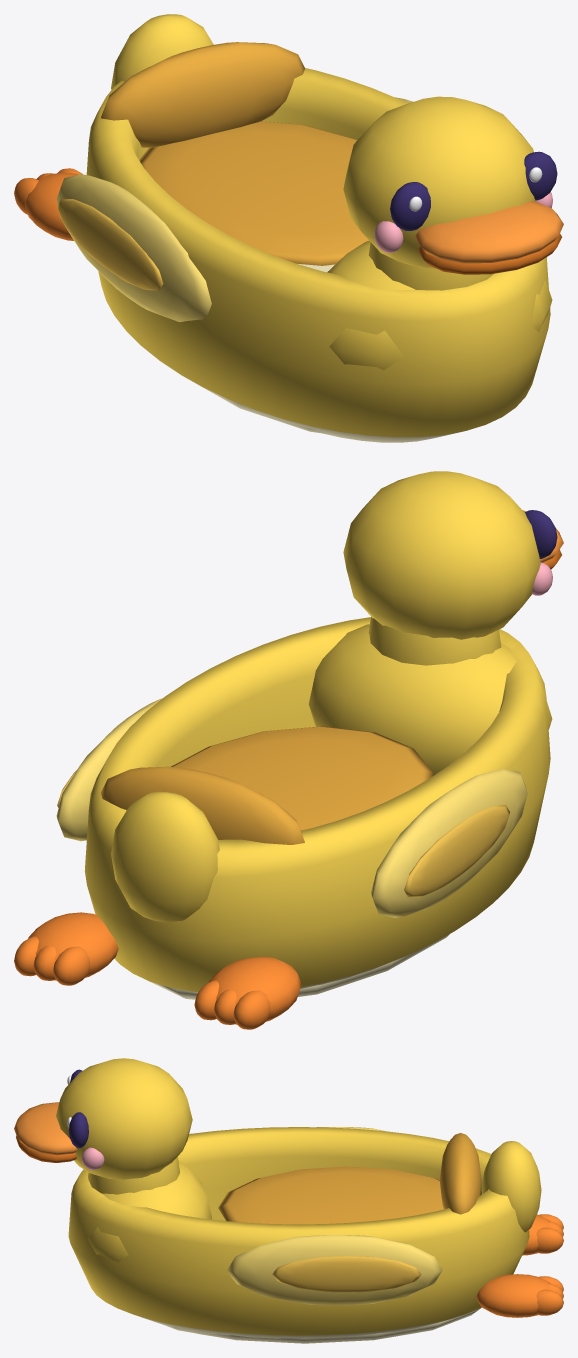
The model's file is duck_boat.glb.
The picture shows the model from 3 angles, top to bottom: view 1: azimuth 30°, elevation 25°; view 2: azimuth 150°, elevation 25°; view 3: azimuth 270°, elevation 25°; orthographic projection. The views are drawn at different scales.
Parts seen in each view (by area): view 1: OpenHull, SeatFloor, Tail, FlankWing, OrangeBill, WingPatch, Eye, WebFoot, BillLowerEdge, PinkCheek, CreamKeel; view 2: OpenHull, Tail, SeatFloor, FlankWing, WebFoot, WingPatch, CreamKeel, Eye; view 3: OpenHull, Tail, SeatFloor, FlankWing, WebFoot, WingPatch, OrangeBill, CreamKeel, Eye, BillLowerEdge, PinkCheek.
Boxes of the visible parts, bbox=[...] form: OpenHull: bbox=[86, 68, 550, 442]; SeatFloor: bbox=[101, 42, 368, 265]; Tail: bbox=[111, 14, 552, 370]; FlankWing: bbox=[56, 97, 413, 322]; OrangeBill: bbox=[414, 201, 563, 263]; WingPatch: bbox=[57, 199, 163, 290]; Eye: bbox=[390, 151, 557, 230]; WebFoot: bbox=[14, 168, 82, 240]; BillLowerEdge: bbox=[418, 234, 561, 274]; PinkCheek: bbox=[374, 192, 552, 252]; CreamKeel: bbox=[181, 263, 383, 441]; OpenHull: bbox=[85, 617, 550, 992]; Tail: bbox=[111, 471, 552, 922]; SeatFloor: bbox=[101, 726, 432, 844]; FlankWing: bbox=[56, 698, 527, 917]; WebFoot: bbox=[14, 912, 300, 1029]; WingPatch: bbox=[57, 770, 509, 897]; CreamKeel: bbox=[145, 934, 449, 999]; Eye: bbox=[525, 510, 557, 558]; OpenHull: bbox=[68, 1127, 529, 1338]; Tail: bbox=[56, 1058, 541, 1262]; SeatFloor: bbox=[218, 1133, 481, 1224]; FlankWing: bbox=[227, 1127, 442, 1305]; WebFoot: bbox=[476, 1214, 563, 1317]; WingPatch: bbox=[272, 1256, 421, 1292]; OrangeBill: bbox=[14, 1102, 76, 1155]; CreamKeel: bbox=[162, 1308, 480, 1343]; Eye: bbox=[68, 1069, 88, 1148]; BillLowerEdge: bbox=[16, 1136, 76, 1162]; PinkCheek: bbox=[81, 1147, 104, 1169].
Size of the model in its own units: 0.978 by 0.925 by 1.84.
